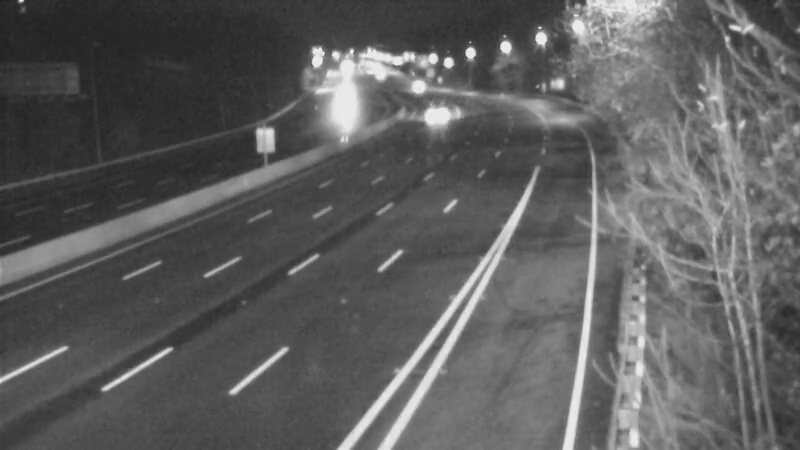vehicle: (410, 92, 460, 142)
